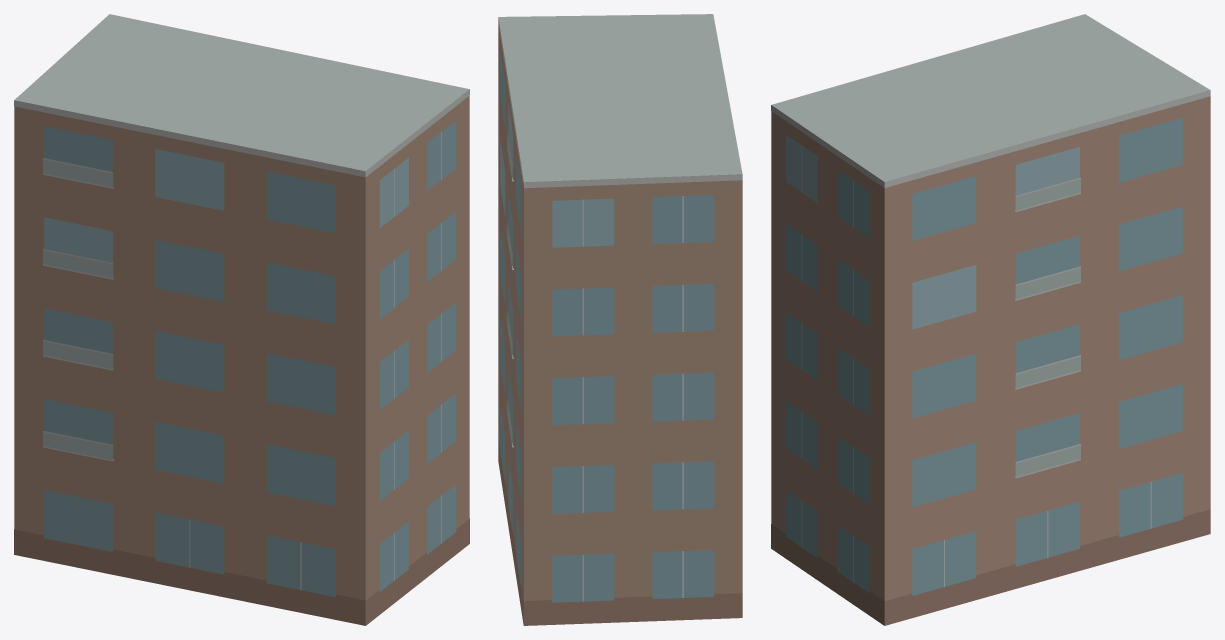
Rendered from survey-upis-32851152.glb.
The picture shows the model from 3 angles, left to right: view 1: azimuth 30°, elevation 25°; view 2: azimuth 150°, elevation 25°; view 3: azimuth 270°, elevation 25°; orthographic projection. The views are drawn at different scales.
Visible parts, largest first — view 1: survey-upis-32851152.tmp; view 2: survey-upis-32851152.tmp; view 3: survey-upis-32851152.tmp.
Part boxes in pixels (bbox=[...]): survey-upis-32851152.tmp: bbox=[14, 14, 469, 625]; survey-upis-32851152.tmp: bbox=[498, 14, 742, 625]; survey-upis-32851152.tmp: bbox=[771, 14, 1210, 625].
Bounding box in the file's own units: 14.5 × 17.84 × 16.02.
